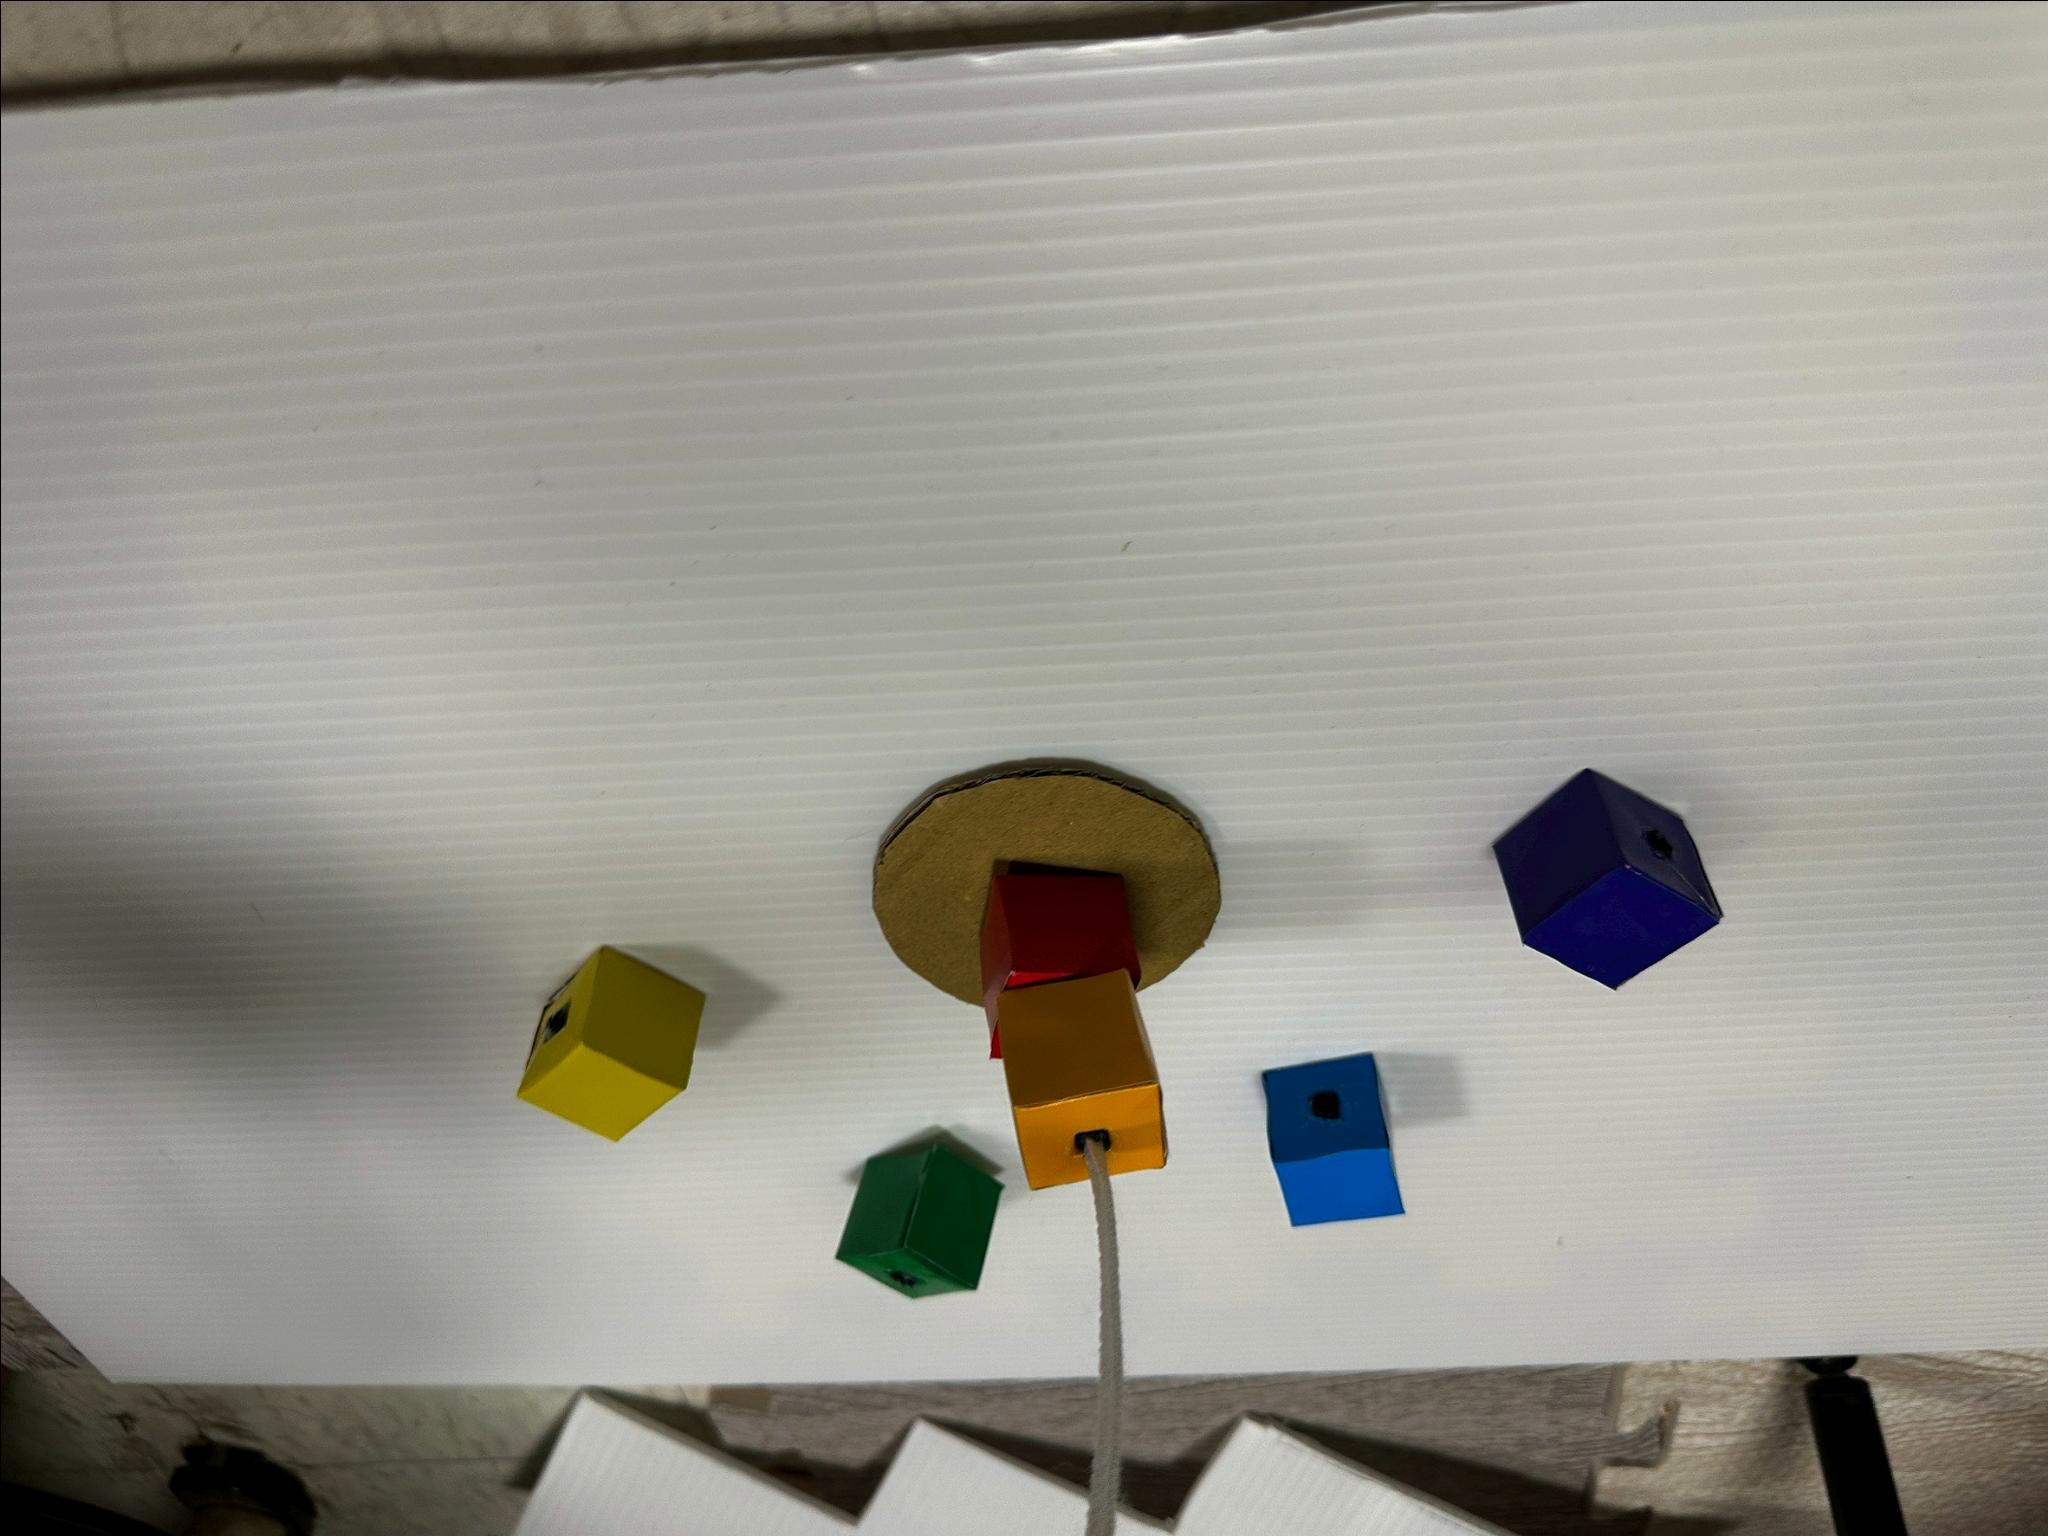base: (1493, 770, 1719, 987), (997, 970, 1166, 1189), (518, 947, 703, 1137), (980, 873, 1138, 1057), (837, 1146, 1000, 1296), (1263, 1054, 1403, 1225)
